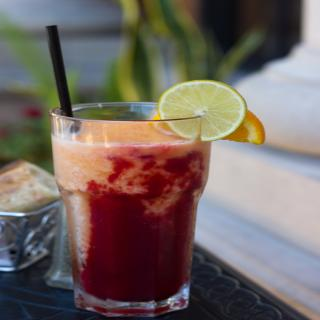Lemon: (159, 78, 249, 140)
